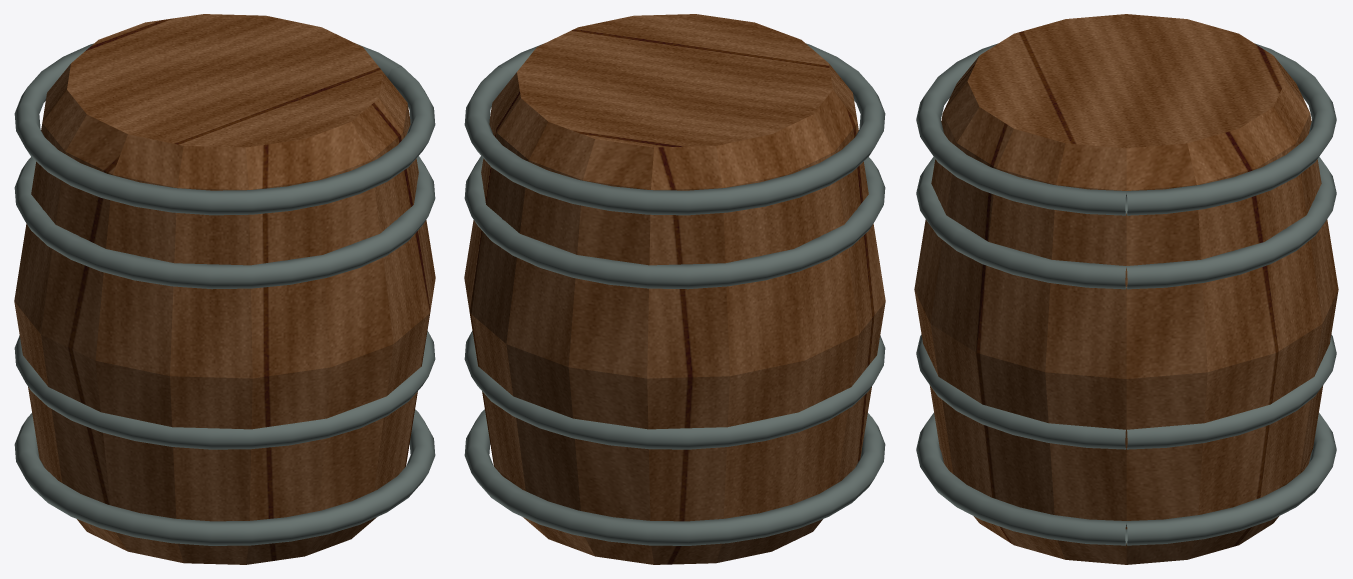
Rendered from prop_barrel.glb.
3 views of the same model, side by side, from view 1: azimuth 30°, elevation 25°; view 2: azimuth 150°, elevation 25°; view 3: azimuth 270°, elevation 25° (orthographic).
Visible parts, largest first — view 1: staves, iron_hoop; view 2: staves, iron_hoop; view 3: staves, iron_hoop.
Boxes of the visible parts, left/top/right/bottom form: staves: left=14, top=14, right=435, bottom=564; iron_hoop: left=14, top=43, right=435, bottom=545; staves: left=464, top=14, right=885, bottom=564; iron_hoop: left=464, top=43, right=885, bottom=545; staves: left=914, top=14, right=1338, bottom=564; iron_hoop: left=916, top=43, right=1336, bottom=545.
Bounding box in the file's own units: 1.2 × 1.3 × 1.2.
2 materials, 1 textured.
